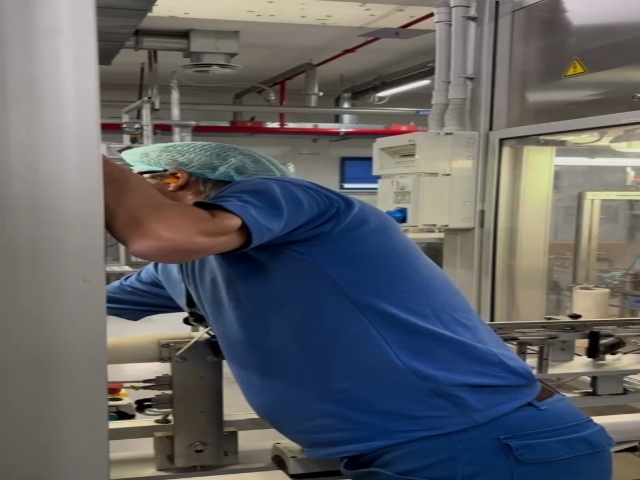Earplug: (165, 169, 190, 190)
Hairnet: (121, 143, 294, 184)
No_Helmet: (122, 144, 292, 181)
No_Vest: (167, 182, 536, 445)
Person: (121, 142, 543, 480)
Safety_Goggles: (124, 166, 172, 188)
